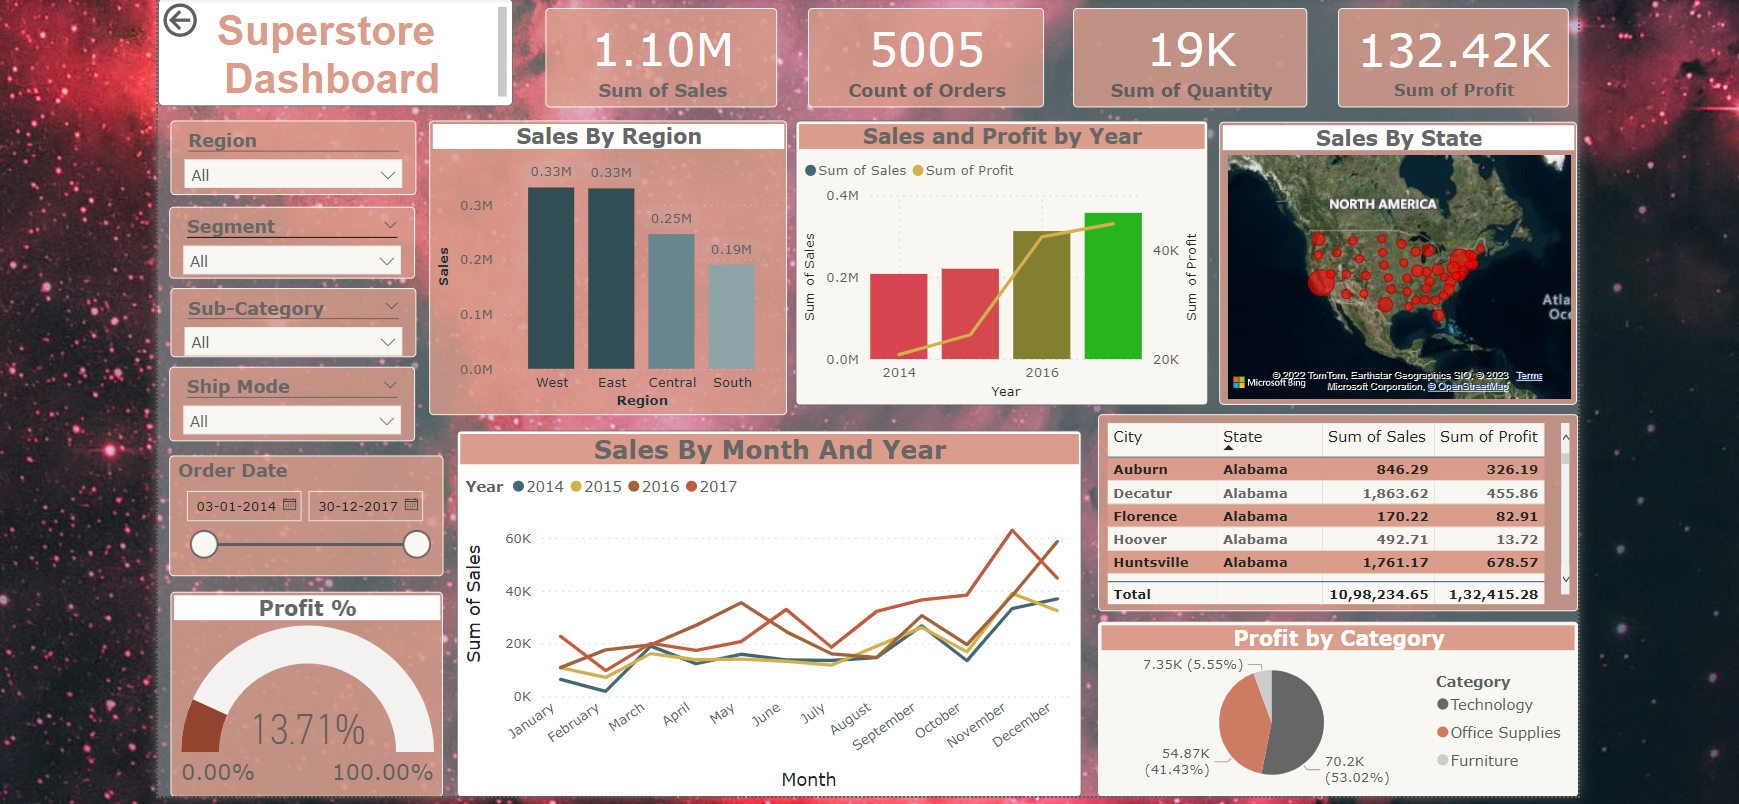

The page's visual inventory and layout, read from the dashboard file:
{"tool":"powerbi","page":{"name":"Assignment","canvas":[1280,720],"ordinal":0},"visuals":[{"type":"clusteredColumnChart","title":" Sales By Region","fields":{"Category":["Sample - Superstore.Region"],"Y":["Sum(Sample - Superstore.Sales)"]},"box":[244.5,110,322.7,265.3],"z":0},{"type":"card","fields":{"Values":["Sum(Sample - Superstore.Sales)"]},"box":[349.6,8.6,209,89.2],"z":1000},{"type":"slicer","fields":{"Values":["Sample - Superstore.Region"]},"box":[11,110,221.3,67.2],"z":2000},{"type":"card","fields":{"Values":["Sum(Sample - Superstore.Profit)"]},"box":[1063.5,8.6,207.8,89.2],"z":3000},{"type":"textbox","box":[0,0,320.3,97.8],"z":4000},{"type":"slicer","fields":{"Values":["Sample - Superstore.Sub-Category"]},"box":[11,261.6,221.3,62.3],"z":5000},{"type":"slicer","fields":{"Values":["Sample - Superstore.Segment"]},"box":[9.8,188.3,221.3,64.8],"z":6000},{"type":"tableEx","fields":{"Values":["Sample - Superstore.City","Sample - Superstore.State","Sum(Sample - Superstore.Sales)","Sum(Sample - Superstore.Profit)"]},"box":[847.1,375.3,432.7,177.2],"z":7000},{"type":"actionButton","box":[0,0,100,40],"z":8000},{"type":"slicer","title":"Order Date","fields":{"Values":["Sample - Superstore.Order Date"]},"box":[9.8,412,246.9,108.8],"z":9000},{"type":"card","fields":{"Values":["Sum(Sample - Superstore.Quantity)"]},"box":[825.1,8.6,211.5,89.2],"z":10000},{"type":"map","title":"Sales By State","fields":{"Size":["Sum(Sample - Superstore.Sales)"],"Category":["Sample - Superstore.State"]},"box":[957.1,111.2,322.7,255.5],"z":11000},{"type":"gauge","fields":{"Y":["Category.Profit %"]},"box":[11,535.4,245.7,184.6],"z":12000},{"type":"card","fields":{"Values":["Category.Count of Orders"]},"box":[585.5,8.6,212.7,89.2],"z":13000},{"type":"slicer","fields":{"Values":["Sample - Superstore.Ship Mode"]},"box":[9.8,332.5,221.3,67.2],"z":14000},{"type":"lineChart","title":"Sales By Month And Year","fields":{"Y":["Sum(Sample - Superstore.Sales)"],"Category":["Sample - Superstore.Order Date.Variation.Date Hierarchy.Month"],"Series":["Sample - Superstore.Order Date.Variation.Date Hierarchy.Year"]},"box":[268.9,389.9,563.5,330.1],"z":16000},{"type":"lineClusteredColumnComboChart","title":"Sales and Profit by Year","fields":{"Category":["Sample - Superstore.Order Date.Variation.Date Hierarchy.Year"],"Y":["Sum(Sample - Superstore.Sales)"],"Y2":["Sum(Sample - Superstore.Profit)"]},"box":[574.5,110,371.6,256.7],"z":17000},{"type":"pieChart","title":"Profit by Category","fields":{"Category":["Category.Category"],"Y":["Sum(Sample - Superstore.Profit)"]},"box":[847.1,562.3,432.7,157.7],"z":18000}]}

Visuals, with their boxes in screenshot pixels (x1, y1, x2, y2):
" Sales By Region" clusteredColumnChart: <box>428,117,785,410</box>
card - Sum(Sample - Superstore.Sales): <box>544,5,775,103</box>
slicer - Sample - Superstore.Region: <box>171,117,415,191</box>
card - Sum(Sample - Superstore.Profit): <box>1333,5,1562,103</box>
textbox: <box>158,0,512,103</box>
slicer - Sample - Superstore.Sub-Category: <box>171,284,415,353</box>
slicer - Sample - Superstore.Segment: <box>169,203,414,275</box>
tableEx - Sample - Superstore.City x Sample - Superstore.State: <box>1094,410,1572,605</box>
actionButton: <box>158,0,269,40</box>
"Order Date" slicer: <box>169,450,442,570</box>
card - Sum(Sample - Superstore.Quantity): <box>1069,5,1303,103</box>
"Sales By State" map: <box>1215,118,1572,400</box>
gauge - Category.Profit %: <box>171,587,442,790</box>
card - Category.Count of Orders: <box>805,5,1040,103</box>
slicer - Sample - Superstore.Ship Mode: <box>169,363,414,437</box>
"Sales By Month And Year" lineChart: <box>455,426,1078,790</box>
"Sales and Profit by Year" lineClusteredColumnComboChart: <box>793,117,1203,400</box>
"Profit by Category" pieChart: <box>1094,616,1572,790</box>
